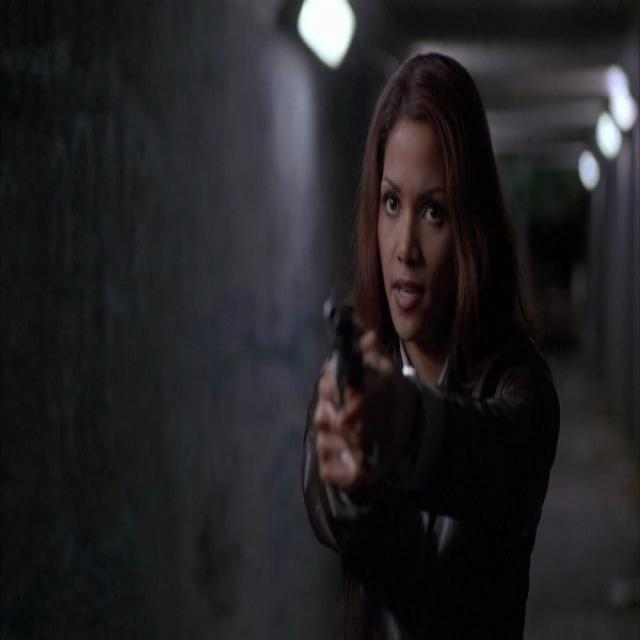weapons: (318, 279, 392, 492)
